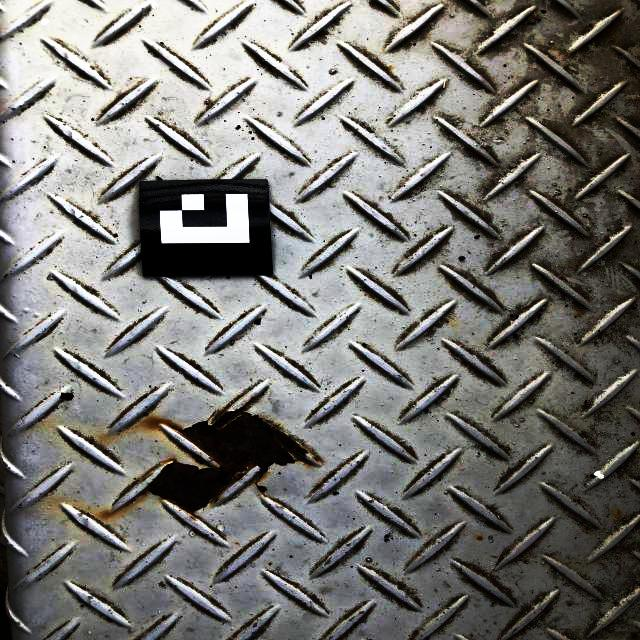Corrosion: (144, 396, 311, 513), (0, 586, 12, 640), (138, 475, 151, 485), (631, 632, 638, 639), (313, 456, 319, 462)
